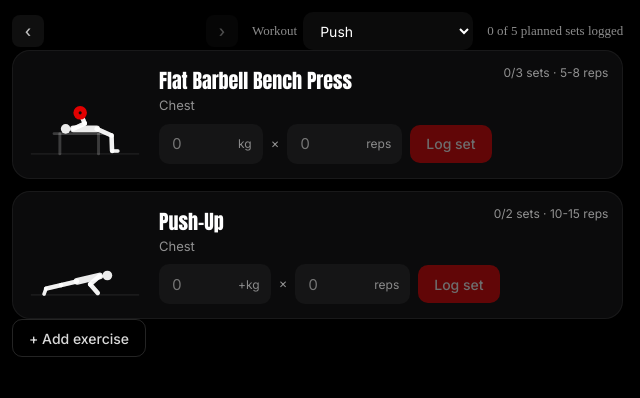
Scenario: WorkoutLog › checks the weight and reps before saving
This screenshot has width=640, height=398.
Expected: the button "Log set" below "Flat Barbell Bench Press" is disabled, [410,124,492,162]
In the field named "Weight in kg": (201, 144) [170,133,232,154], type "1001"
In the field labelled "reps" below "Flat Barbell Bench Press": (329, 144) [298,133,360,154], type "5"
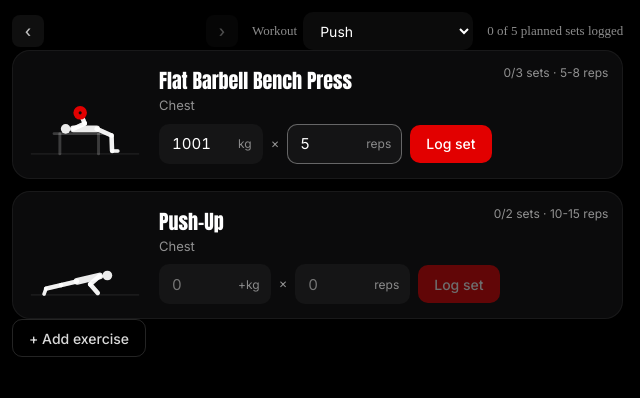
Click the button "Log set" below "Flat Barbell Bench Press": click(451, 144) [410,124,492,162]
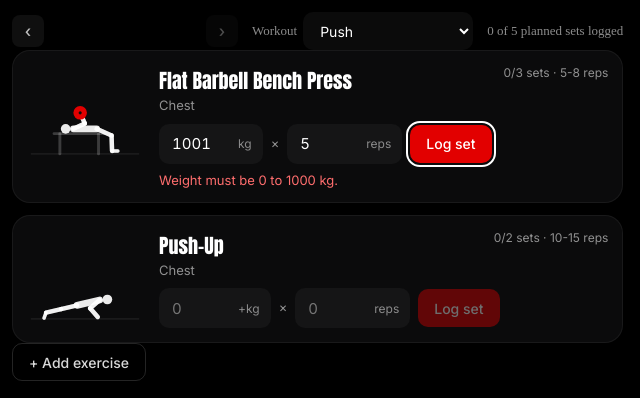
Result: the message reads "Weight must be 0 to 1000 kg." at [159,172,338,188]
Clear the field named "Weight in kg": (201, 144) [170,133,232,154]
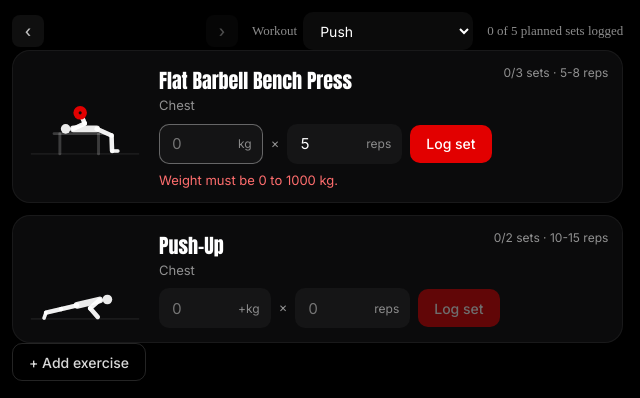
Replace the text in the field labelled "reps" below "Flat Barbell Bench Press" with "0": (329, 144) [298,133,360,154]
Click the button "Log set" below "Flat Barbell Bench Press": click(451, 144) [410,124,492,162]
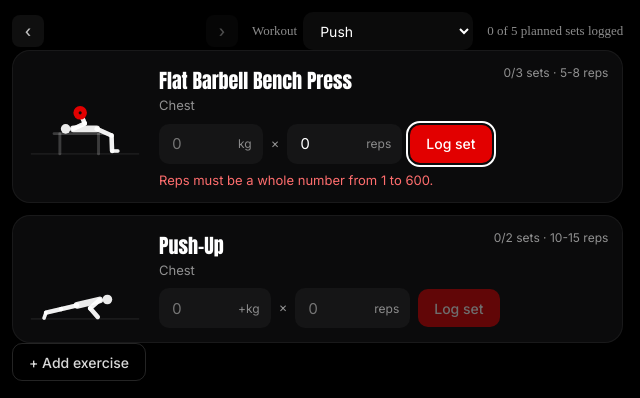
Result: the message reads "Reps must be a whole number from 1 to 600." at [159,172,433,188]
In the field labelled "reps" below "Flat Barbell Bench Press": (329, 144) [298,133,360,154], type "x8"
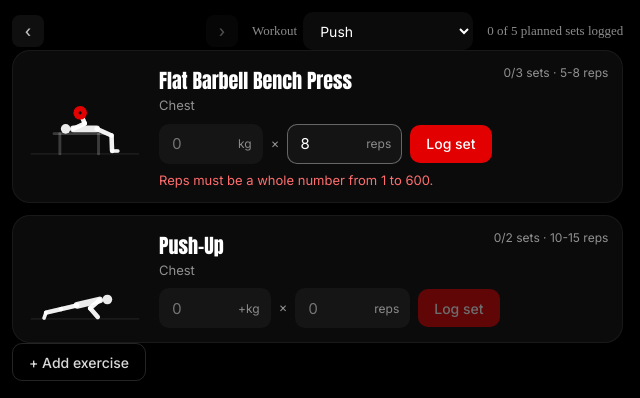
Result: the field labelled "reps" below "Flat Barbell Bench Press" holds "8" at [298,133,360,154]
Click the button "Log set" below "Flat Barbell Bench Press": click(451, 144) [410,124,492,162]
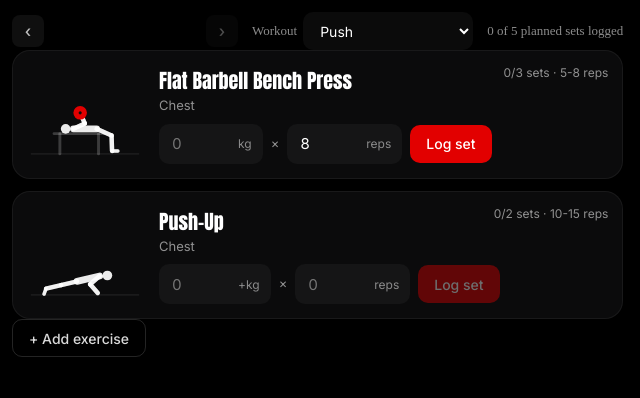
Result: the message "Reps must be a whole number from 1 to 600." is gone
